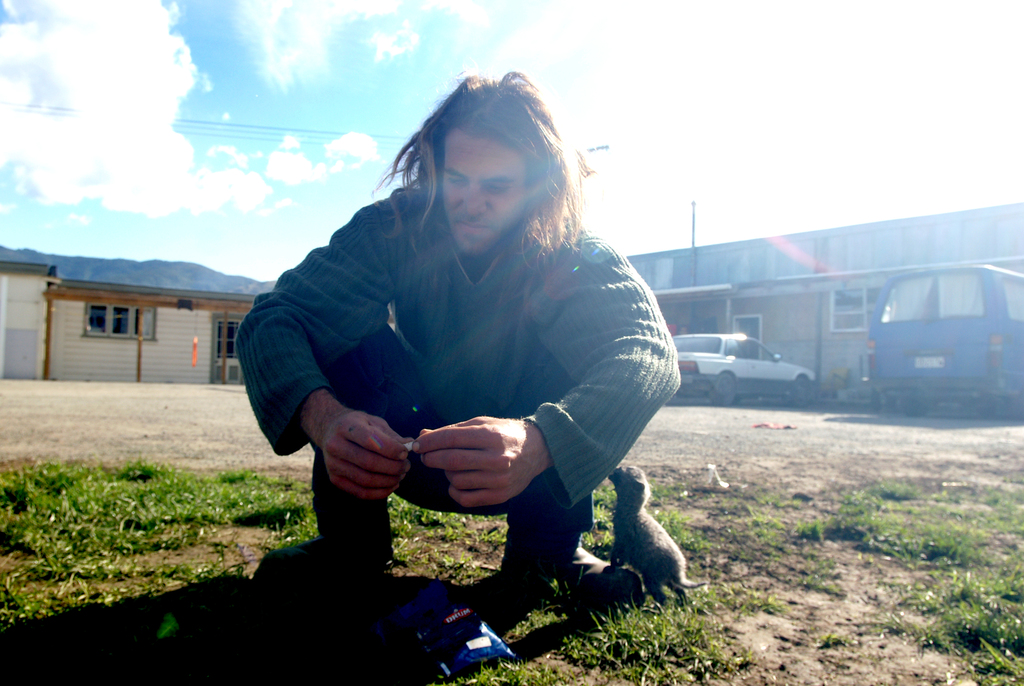Animal: (606, 464, 705, 606)
